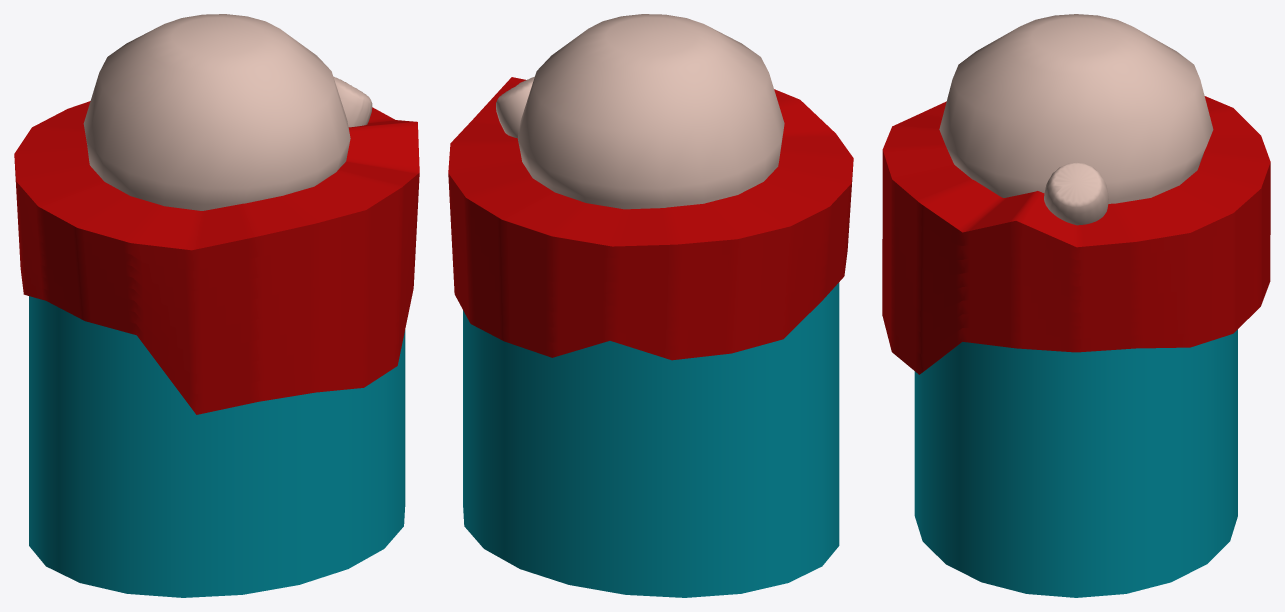
Rendered from Hands.fbx.
The picture shows the model from 3 angles, left to right: view 1: azimuth 30°, elevation 25°; view 2: azimuth 150°, elevation 25°; view 3: azimuth 270°, elevation 25°; orthographic projection.
Parts seen in each view (by area): view 1: pCylinder1, pCylinder2, polySurface3, polySurface2; view 2: pCylinder1, pCylinder2, polySurface3, polySurface2; view 3: pCylinder1, pCylinder2, polySurface3, polySurface2.
Boxes of the visible parts, x1,y1,x2,y2 form: pCylinder1: (29,296,405,597); pCylinder2: (14,101,419,414); polySurface3: (83,14,350,210); polySurface2: (333,76,372,127); pCylinder1: (463,282,839,597); pCylinder2: (448,77,853,360); polySurface3: (517,14,784,209); polySurface2: (496,76,534,137); pCylinder1: (914,329,1237,597); pCylinder2: (882,96,1270,374); polySurface3: (939,14,1213,203); polySurface2: (1044,162,1108,225).
Size of the model in its own units: 2.51 by 3.29 by 2.4.
